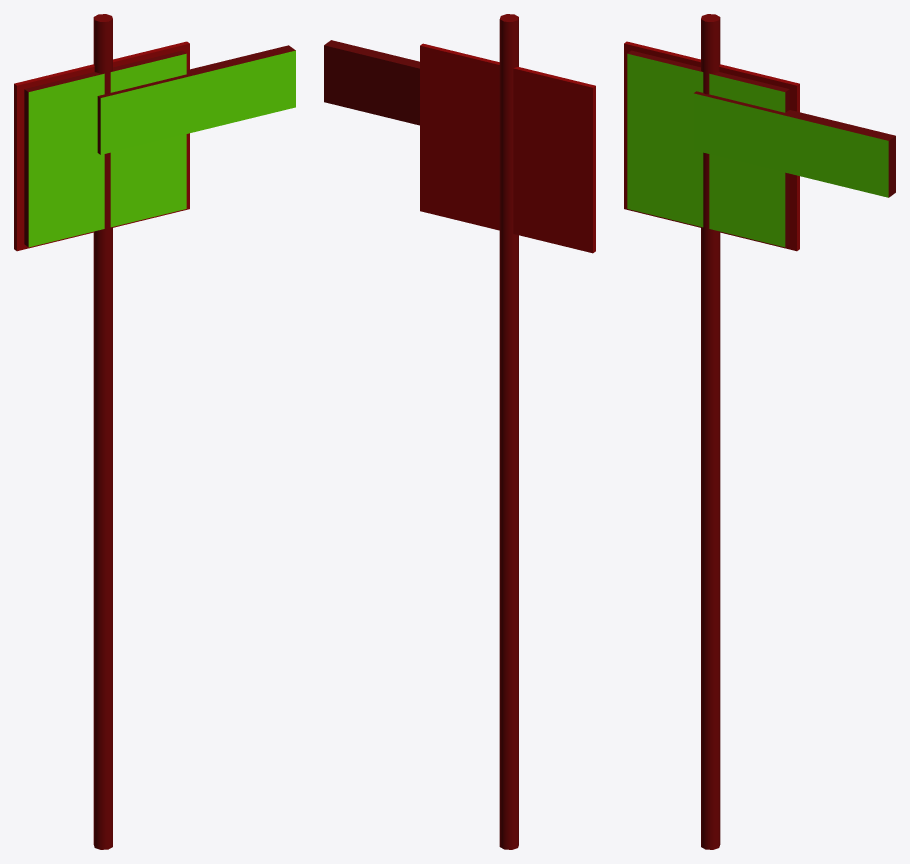
File: street_sign.glb
3 renders of one model, left to right at view 1: azimuth 30°, elevation 25°; view 2: azimuth 150°, elevation 25°; view 3: azimuth 330°, elevation 25°, orthographic.
Parts seen in each view (by area): view 1: street_sign; view 2: street_sign; view 3: street_sign.
Boxes of the visible parts, x1,y1,x2,y2 form: street_sign: (14,14,295,849); street_sign: (324,14,595,849); street_sign: (624,14,895,849).
Bounding box in the file's own units: 1.1 × 3.2 × 0.085.
